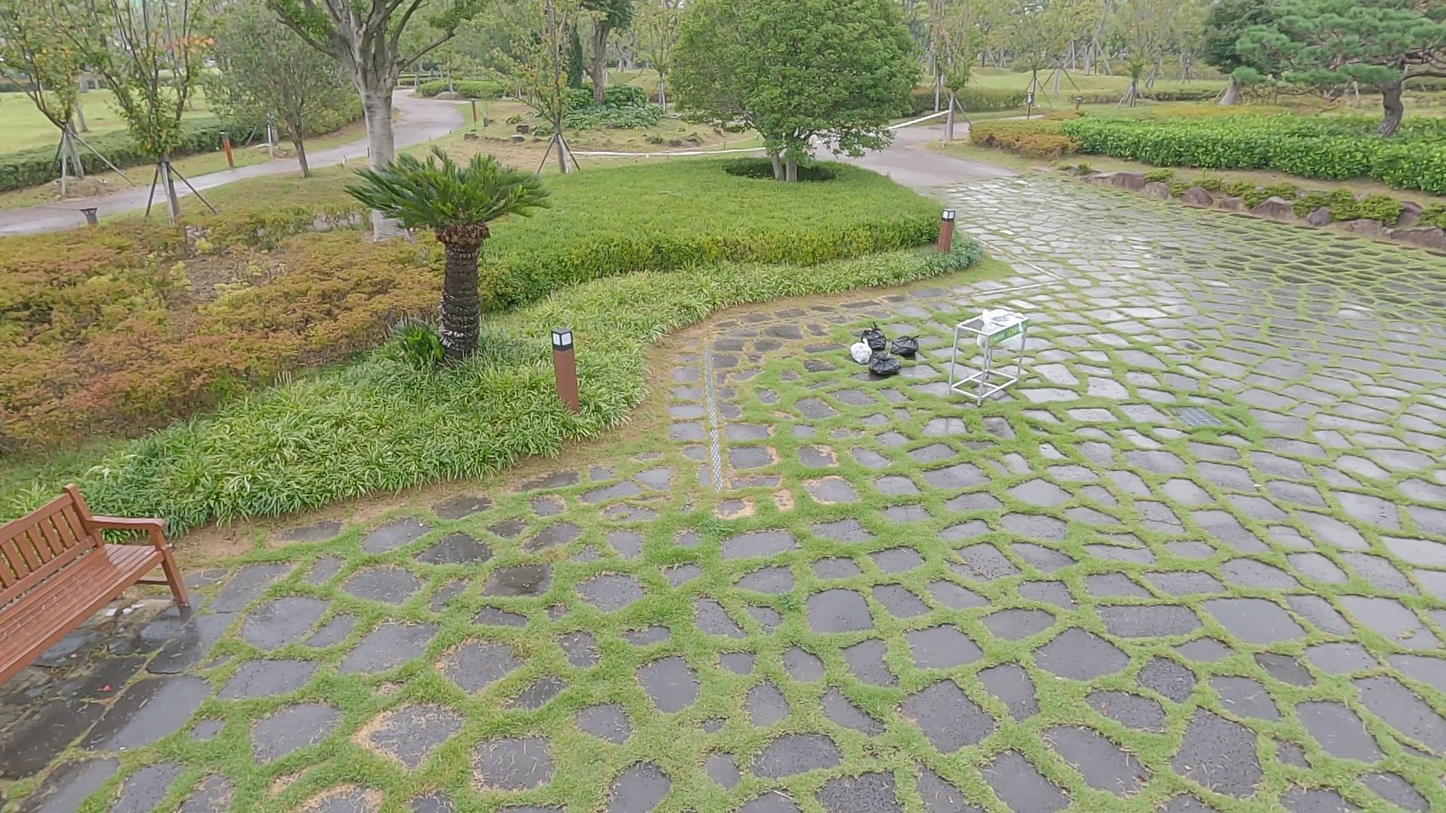trash: (867, 353, 901, 382), (888, 335, 923, 361), (860, 325, 890, 354), (851, 335, 875, 365)
